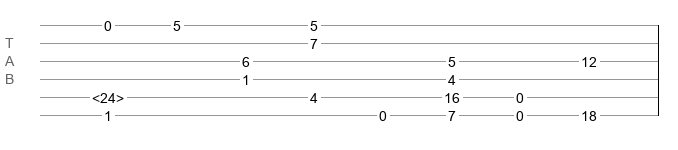0: (104, 18, 112, 28), (379, 108, 387, 118), (516, 108, 524, 118), (516, 90, 524, 100)
1: (104, 108, 112, 118), (242, 72, 250, 82)
12: (581, 54, 597, 64)
16: (444, 90, 460, 100)
18: (581, 108, 597, 118)
4: (310, 90, 318, 100), (448, 72, 456, 82)
5: (173, 18, 181, 28), (310, 18, 318, 28), (448, 54, 456, 64)
6: (242, 54, 250, 64)
7: (310, 36, 318, 46), (448, 108, 456, 118)
harmonic: (92, 90, 124, 100)
